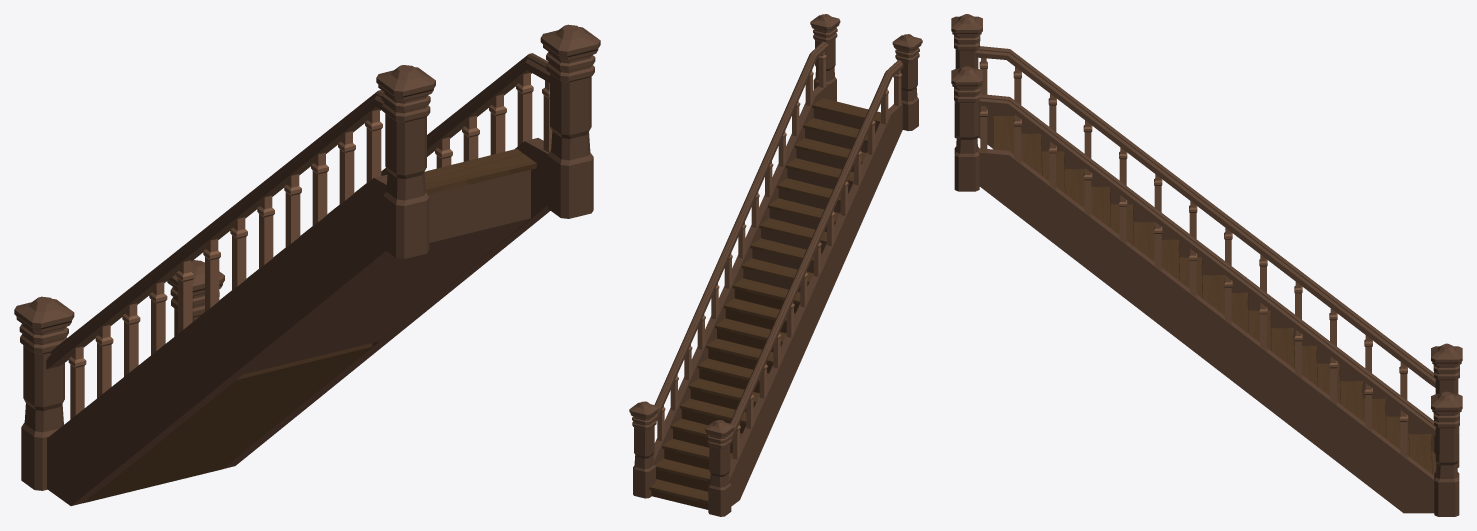
File: Лестница.fbx
3 views of the same model, side by side, from view 1: azimuth 30°, elevation 25°; view 2: azimuth 150°, elevation 25°; view 3: azimuth 270°, elevation 25° (orthographic). The views are drawn at different scales.
Visible parts, largest first — view 1: Cube.002; view 2: Cube.002; view 3: Cube.002.
Boxes of the visible parts, x1,y1,x2,y2 form: Cube.002: (14,24,600,505); Cube.002: (629,14,922,516); Cube.002: (951,14,1462,516).
Bounding box in the file's own units: 253 × 801 × 834.
